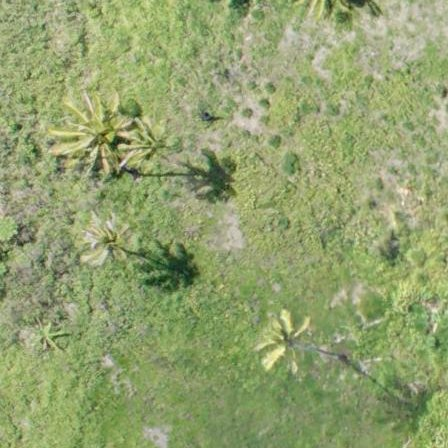palm_tree: (54, 100, 125, 176), (256, 311, 310, 368), (122, 112, 176, 168), (81, 218, 133, 275)
